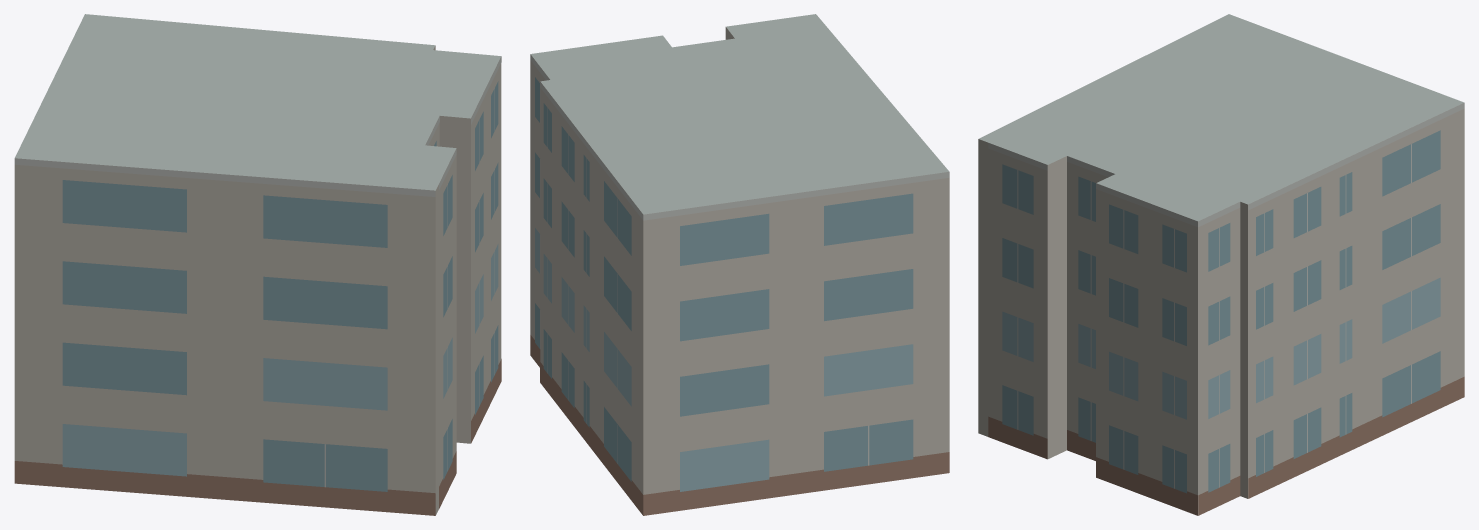
Rendered from survey-upis-32662452.glb.
The picture shows the model from 3 angles, left to right: view 1: azimuth 30°, elevation 25°; view 2: azimuth 150°, elevation 25°; view 3: azimuth 270°, elevation 25°; orthographic projection. The views are drawn at different scales.
Parts seen in each view (by area): view 1: survey-upis-32662452.tmp; view 2: survey-upis-32662452.tmp; view 3: survey-upis-32662452.tmp.
Boxes of the visible parts, box(x1,y1,x2,y2) form: survey-upis-32662452.tmp: box(14, 14, 501, 515); survey-upis-32662452.tmp: box(530, 14, 949, 515); survey-upis-32662452.tmp: box(978, 14, 1464, 515).
Bounding box in the file's own units: 18.45 × 12.2 × 18.27.
